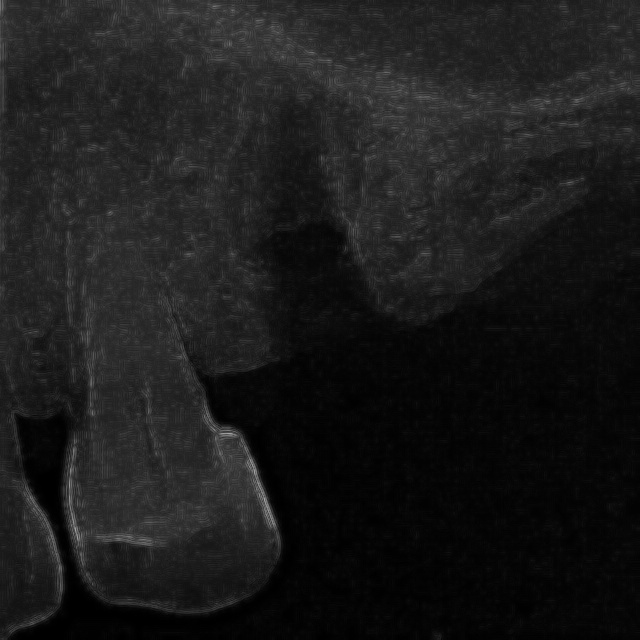cavity: (19, 145, 334, 616)
